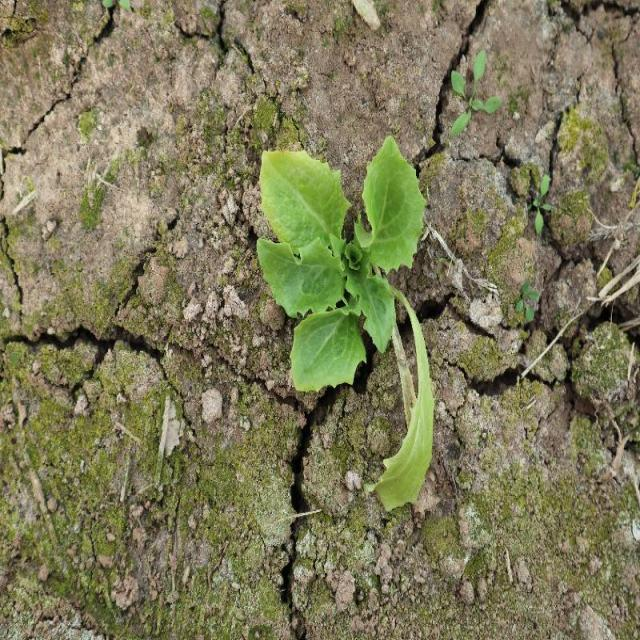crop: (256, 135, 436, 509)
